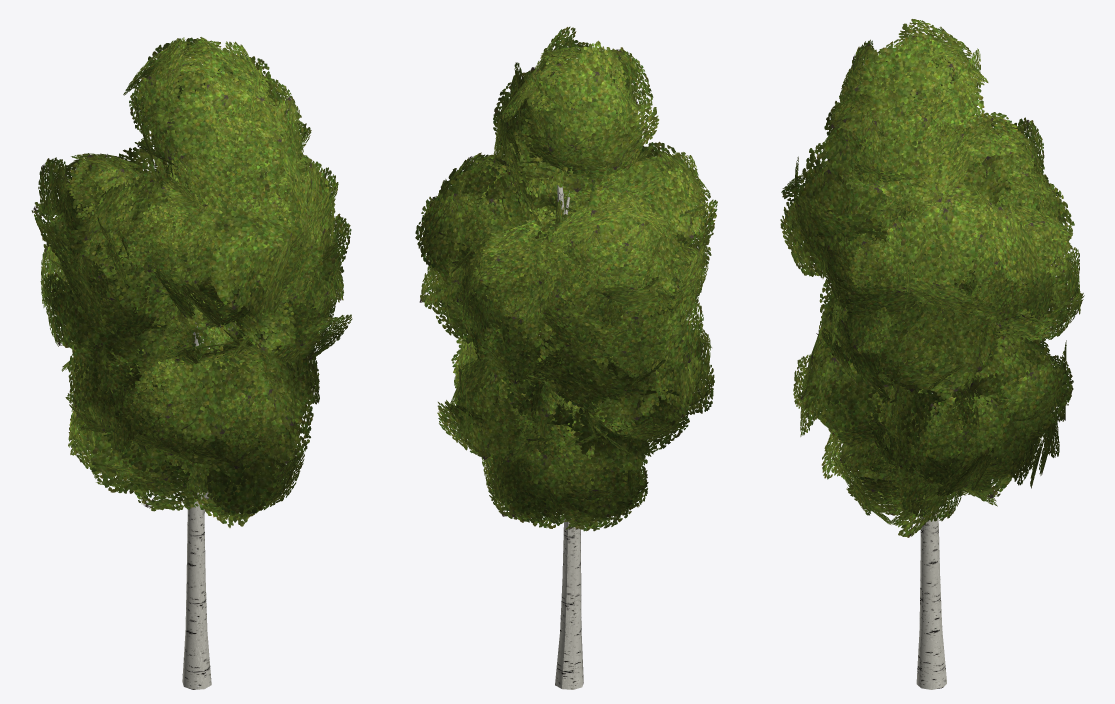
Rendered from birch_a-B3fu0tZ9.glb.
The picture shows the model from 3 angles, left to right: view 1: azimuth 30°, elevation 25°; view 2: azimuth 150°, elevation 25°; view 3: azimuth 270°, elevation 25°; orthographic projection. The views are drawn at different scales.
Visible parts, largest first — view 1: leaves, bark; view 2: leaves, bark; view 3: leaves, bark.
Boxes of the visible parts, left/top/right/bottom form: leaves: left=31, top=37, right=352, bottom=527; bark: left=176, top=312, right=235, bottom=689; leaves: left=415, top=26, right=717, bottom=531; bark: left=539, top=185, right=583, bottom=689; leaves: left=780, top=19, right=1084, bottom=537; bark: left=916, top=393, right=946, bottom=689.
Bounding box in the file's own units: 6.63 × 13.69 × 6.25.
Materials: 2 (2 with a texture image).
